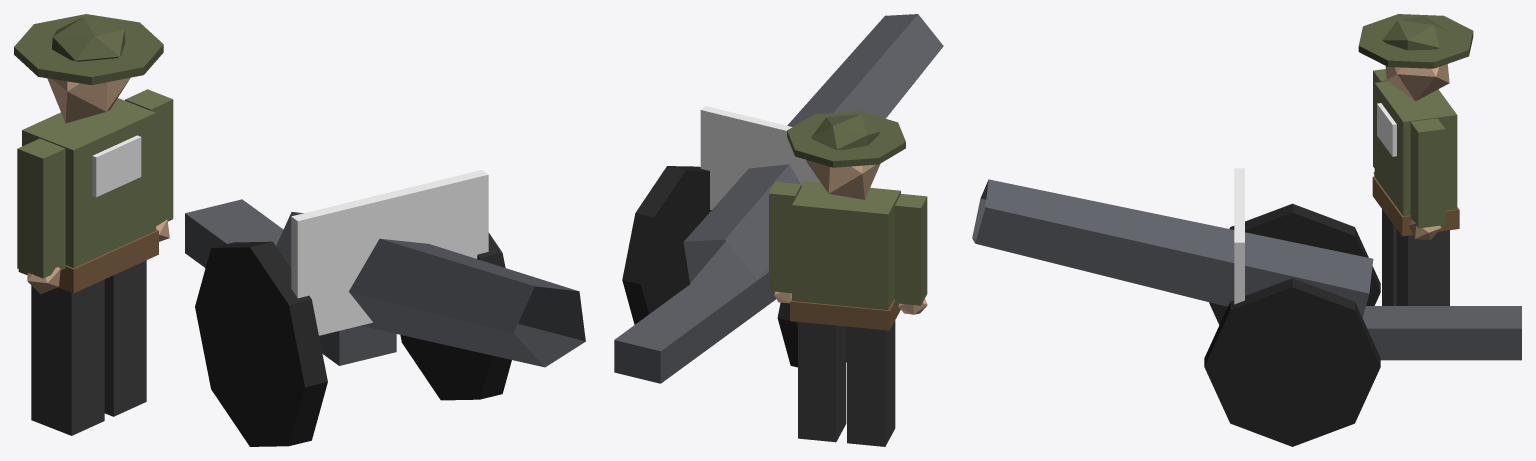
File: Artillery.glb
The picture shows the model from 3 angles, left to right: view 1: azimuth 30°, elevation 25°; view 2: azimuth 150°, elevation 25°; view 3: azimuth 270°, elevation 25°; orthographic projection. The views are drawn at different scales.
Visible parts, largest first — view 1: Units_Artillery; view 2: Units_Artillery; view 3: Units_Artillery.
Part boxes in pixels (x1,y1,x2,y2): Units_Artillery: [14, 14, 585, 446]; Units_Artillery: [614, 14, 943, 446]; Units_Artillery: [972, 14, 1521, 446].
Size of the model in its own units: 0.1987 by 0.1929 by 0.3117.
